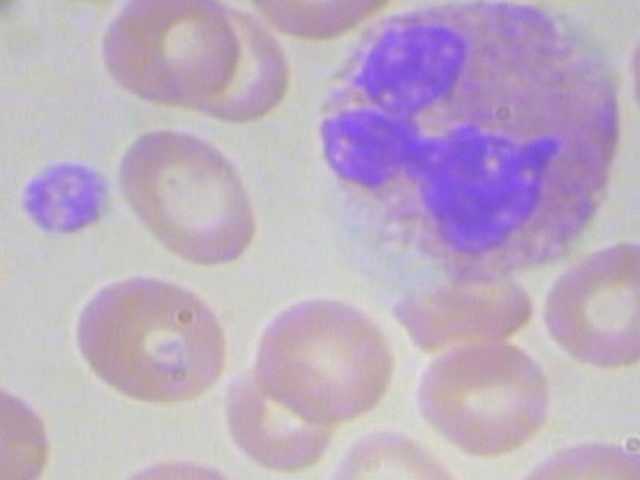Platelets: (16, 153, 118, 241), (51, 0, 121, 4)
RBC: (105, 117, 276, 268), (69, 275, 235, 407), (407, 320, 550, 464), (250, 288, 394, 419), (95, 0, 241, 106), (539, 237, 640, 370), (0, 370, 75, 480), (237, 0, 408, 48), (332, 424, 468, 480), (511, 424, 640, 480), (621, 10, 640, 165)
WBC: (293, 0, 640, 275)
